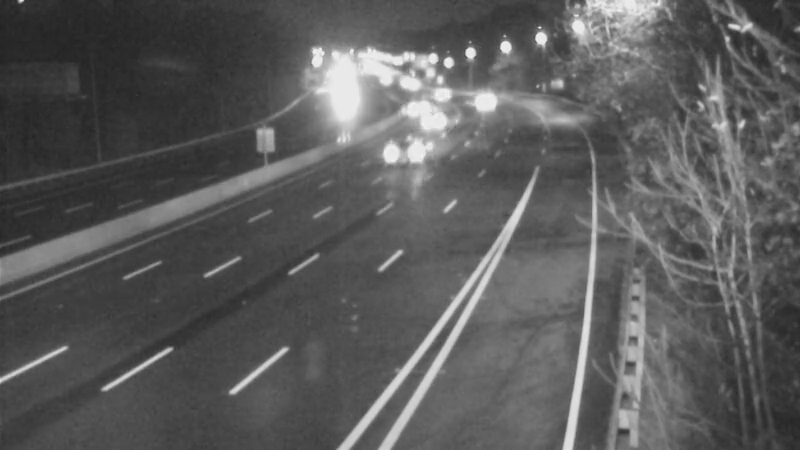vehicle: (413, 65, 463, 115), (458, 76, 508, 126), (392, 78, 442, 128), (410, 92, 460, 142), (383, 123, 433, 173)
